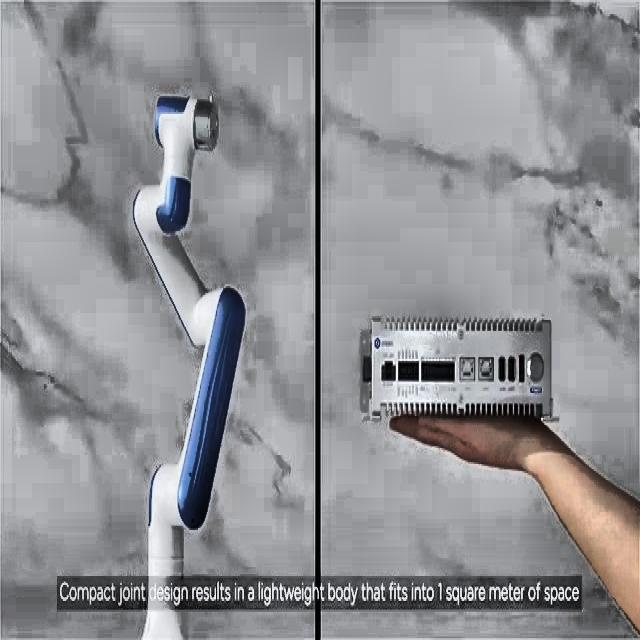robot: (131, 93, 246, 636)
